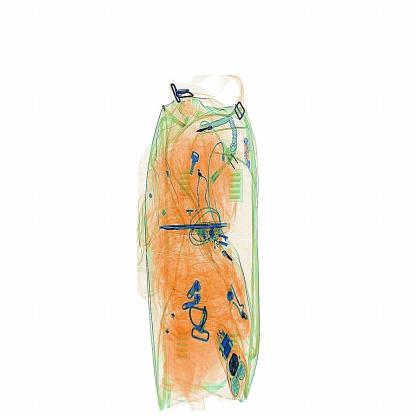pliers: (162, 212, 235, 248)
